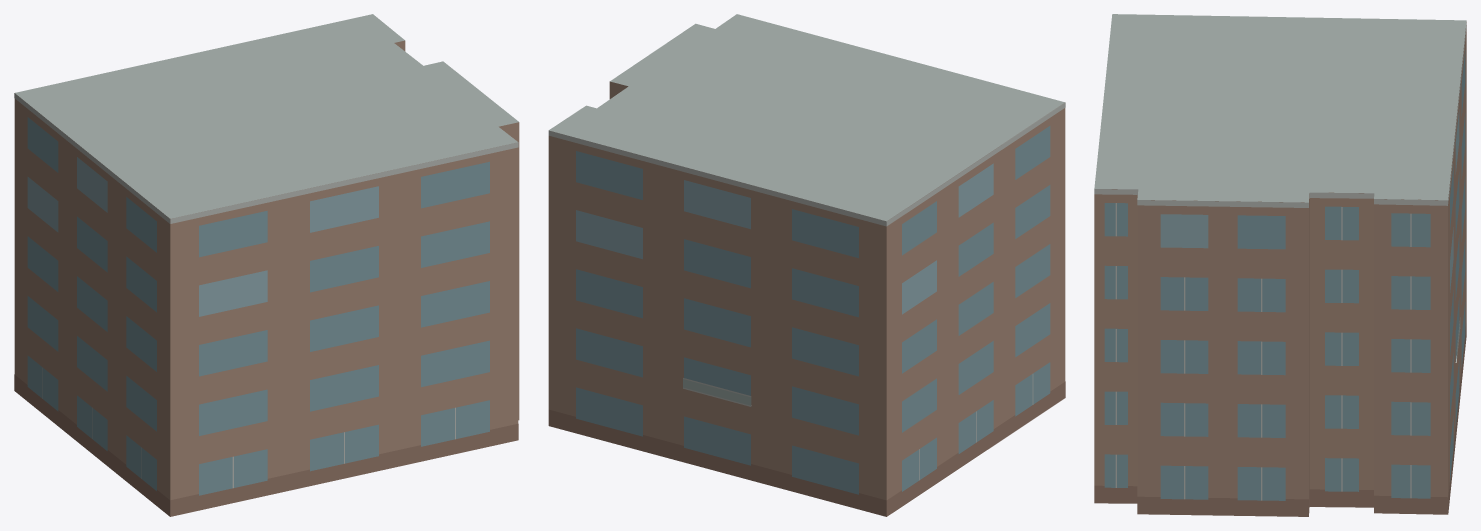
File: survey-upis-32838831.glb
The picture shows the model from 3 angles, left to right: view 1: azimuth 30°, elevation 25°; view 2: azimuth 150°, elevation 25°; view 3: azimuth 270°, elevation 25°; orthographic projection. The views are drawn at different scales.
Parts seen in each view (by area): view 1: survey-upis-32838831.tmp; view 2: survey-upis-32838831.tmp; view 3: survey-upis-32838831.tmp.
Boxes of the visible parts, left/top/right/bottom form: survey-upis-32838831.tmp: left=14, top=14, right=519, bottom=516; survey-upis-32838831.tmp: left=548, top=14, right=1065, bottom=516; survey-upis-32838831.tmp: left=1094, top=14, right=1466, bottom=516.
Bounding box in the file's own units: 17.86 × 13.88 × 14.91.
